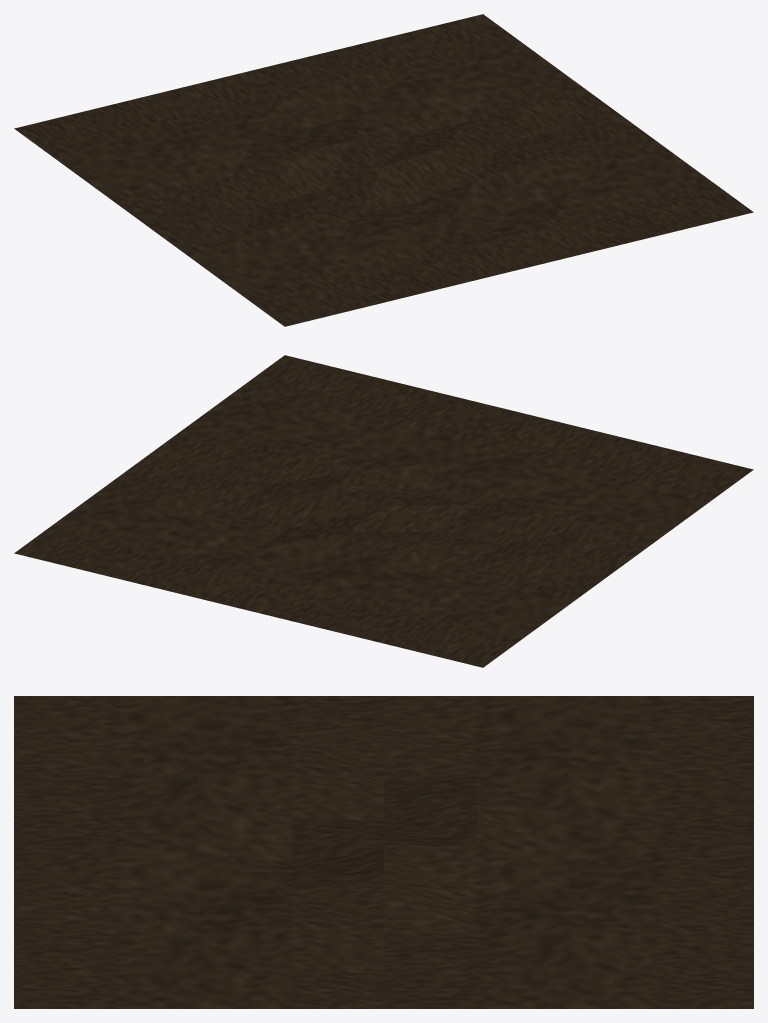
File: Terrain_Soil_2x2.glb
3 views of the same model, one above another, from view 1: azimuth 30°, elevation 25°; view 2: azimuth 150°, elevation 25°; view 3: azimuth 270°, elevation 25° (orthographic). The views are drawn at different scales.
Visible parts, largest first — view 1: Terrain_Soil_2x2; view 2: Terrain_Soil_2x2; view 3: Terrain_Soil_2x2.
Boxes of the visible parts, x1,y1,x2,y2 form: Terrain_Soil_2x2: (14, 14, 753, 326); Terrain_Soil_2x2: (14, 355, 753, 667); Terrain_Soil_2x2: (14, 696, 753, 1008).
Bounding box in the file's own units: 2 × 0.0598 × 2.
Materials: 1 (1 with a texture image).
